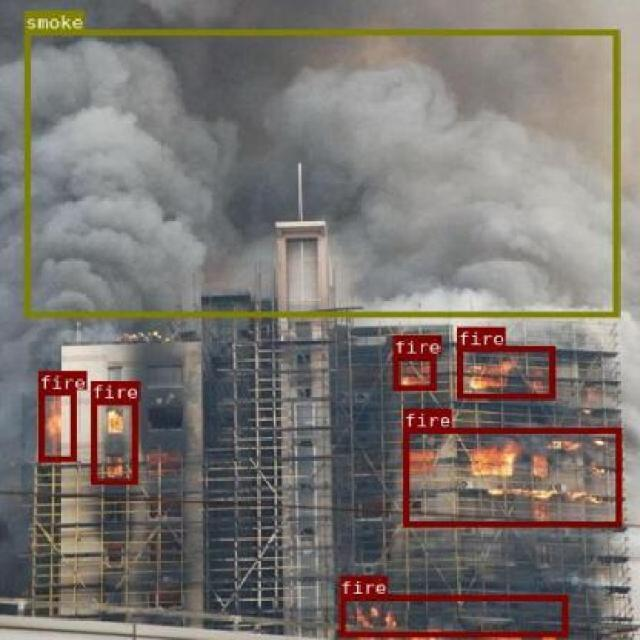Fire: (402, 427, 620, 525), (338, 594, 567, 636), (456, 345, 553, 398), (90, 399, 136, 484), (39, 388, 75, 461), (392, 354, 434, 389)
Smoke: (23, 28, 619, 316)
